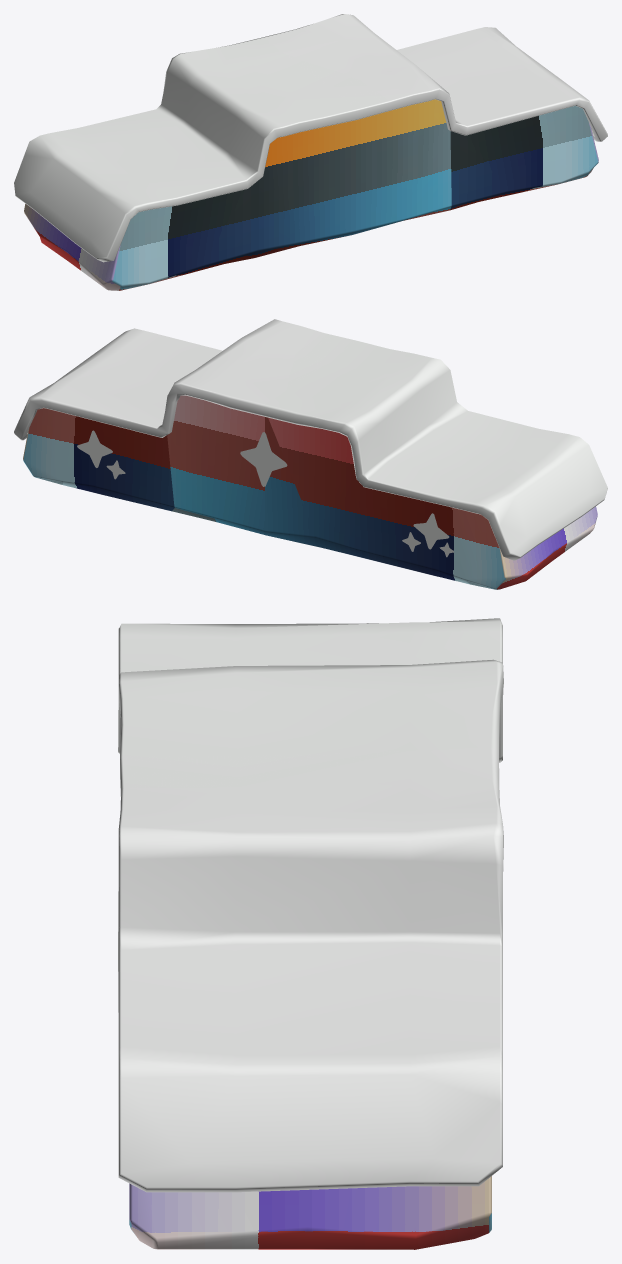
File: CharSkyKid_Prop_Podium.glb
The picture shows the model from 3 angles, top to bottom: view 1: azimuth 30°, elevation 25°; view 2: azimuth 150°, elevation 25°; view 3: azimuth 270°, elevation 25°; orthographic projection. The views are drawn at different scales.
Visible parts, largest first — view 1: CharSkyKid_Prop_Podium; view 2: CharSkyKid_Prop_Podium; view 3: CharSkyKid_Prop_Podium.
Boxes of the visible parts, left/top/right/bottom form: CharSkyKid_Prop_Podium: left=14, top=14, right=607, bottom=290; CharSkyKid_Prop_Podium: left=14, top=319, right=607, bottom=589; CharSkyKid_Prop_Podium: left=118, top=618, right=503, bottom=1249.
Bounding box in the file's own units: 14.09 × 3.59 × 4.63.
1 material, 1 textured.
